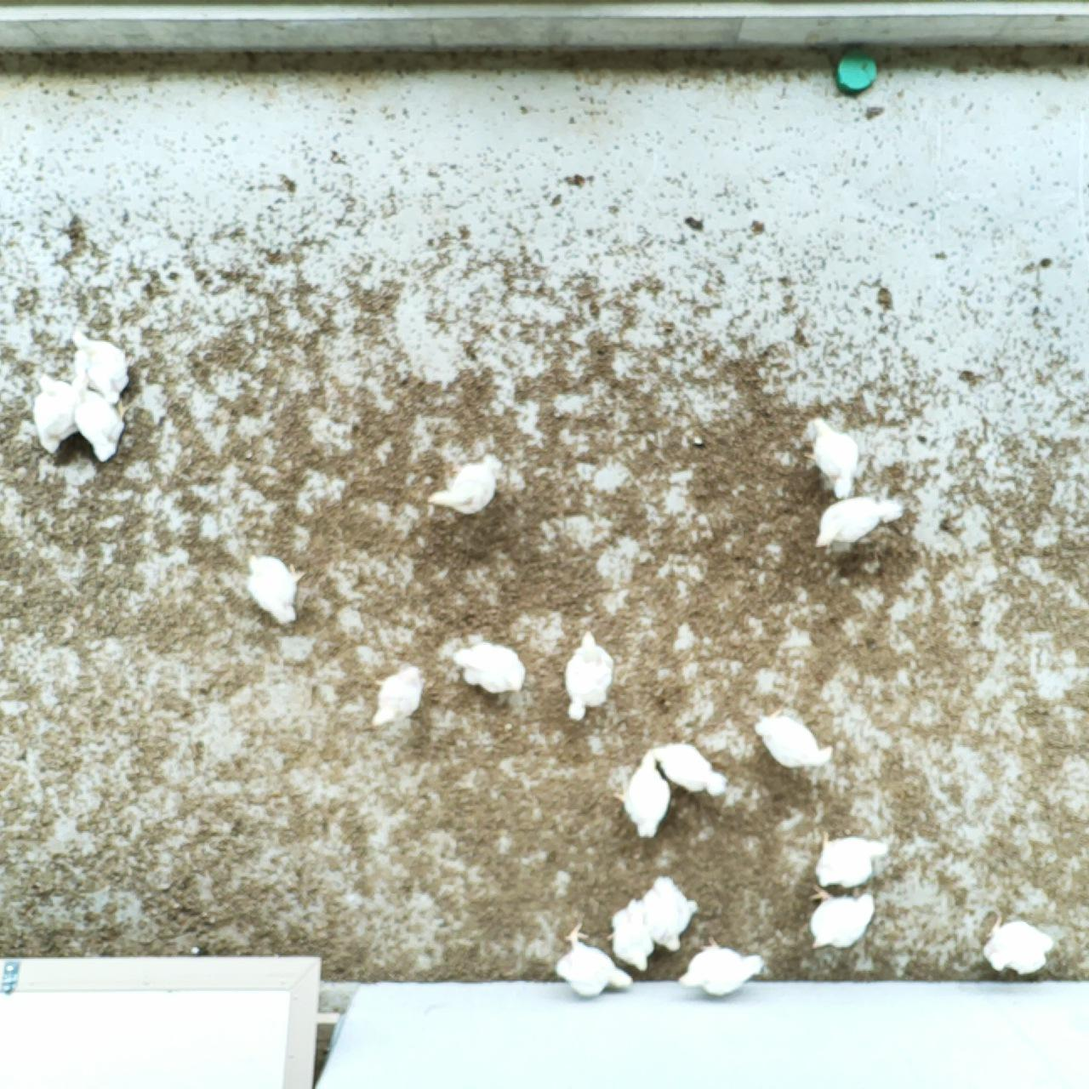chicken: (556, 922, 635, 999), (67, 328, 137, 408), (678, 937, 769, 996), (754, 709, 838, 770), (70, 375, 131, 458), (615, 749, 672, 837), (813, 493, 902, 549), (637, 871, 700, 949), (647, 741, 729, 798), (983, 914, 1056, 978), (566, 628, 615, 722), (814, 831, 891, 889), (29, 372, 83, 454), (248, 551, 306, 626), (809, 888, 877, 951), (454, 637, 526, 696), (607, 894, 660, 973), (812, 414, 860, 500), (427, 461, 498, 516), (372, 665, 428, 730)
